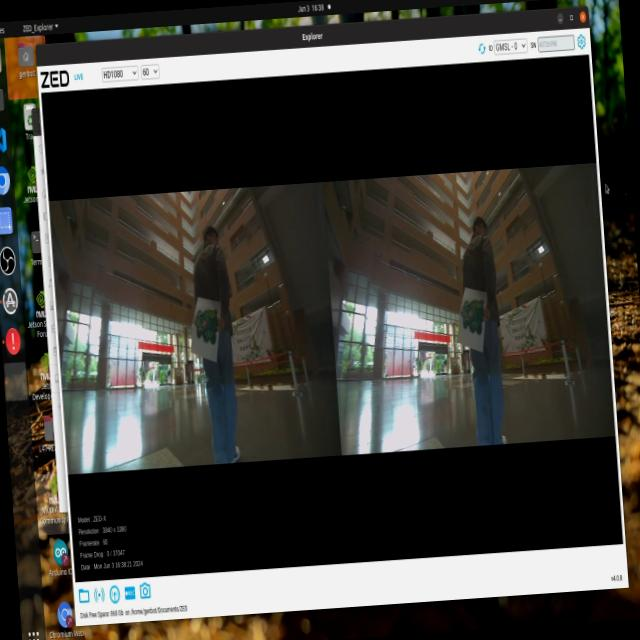green: (452, 288, 491, 340), (191, 298, 222, 352)
